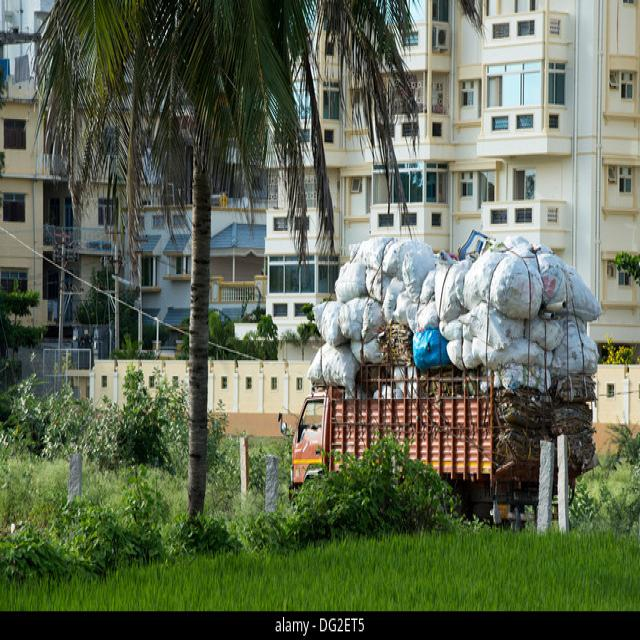goods: (310, 237, 601, 480)
truck: (291, 366, 539, 521)
